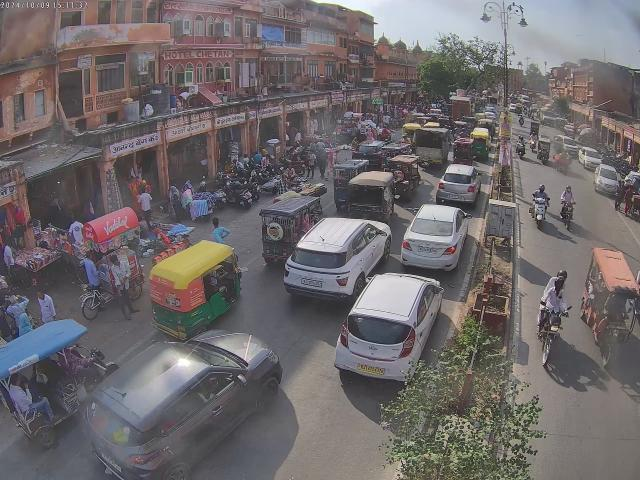auto: (0, 317, 100, 446), (147, 238, 242, 340), (580, 245, 640, 357), (258, 194, 322, 265), (346, 170, 396, 224), (332, 158, 368, 206), (412, 125, 452, 168), (386, 155, 422, 198), (614, 180, 640, 222), (470, 128, 490, 154)
car: (83, 330, 294, 480), (333, 272, 445, 382), (282, 216, 391, 304), (400, 203, 468, 271), (435, 164, 483, 206), (594, 164, 624, 194), (578, 146, 603, 170), (554, 133, 578, 156)
helmet: (554, 275, 566, 291), (556, 269, 568, 282), (536, 186, 546, 192), (566, 184, 572, 193), (520, 137, 524, 142)
license_plate: (356, 362, 384, 374), (300, 276, 324, 288), (417, 244, 439, 255), (449, 194, 462, 200)
motorbike: (0, 274, 11, 302)
motorbike-rider: (536, 270, 570, 336), (529, 186, 550, 226), (558, 185, 576, 229)
person: (106, 253, 138, 318), (34, 288, 56, 326), (136, 186, 154, 216), (210, 218, 230, 244), (0, 240, 15, 272), (180, 180, 194, 210)
scooty: (222, 182, 254, 209), (249, 168, 279, 194)
scooty-rider: (537, 138, 551, 164), (288, 174, 310, 190), (514, 134, 527, 160)
vendor: (84, 205, 144, 314)
